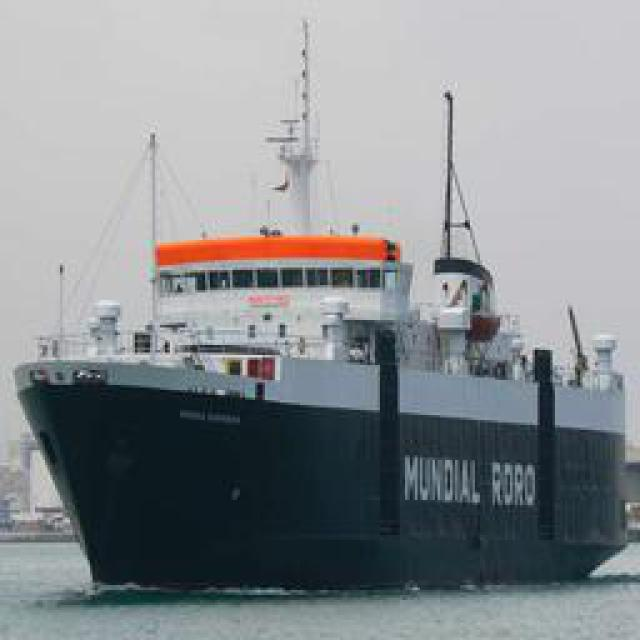Ship: (10, 97, 638, 600)
